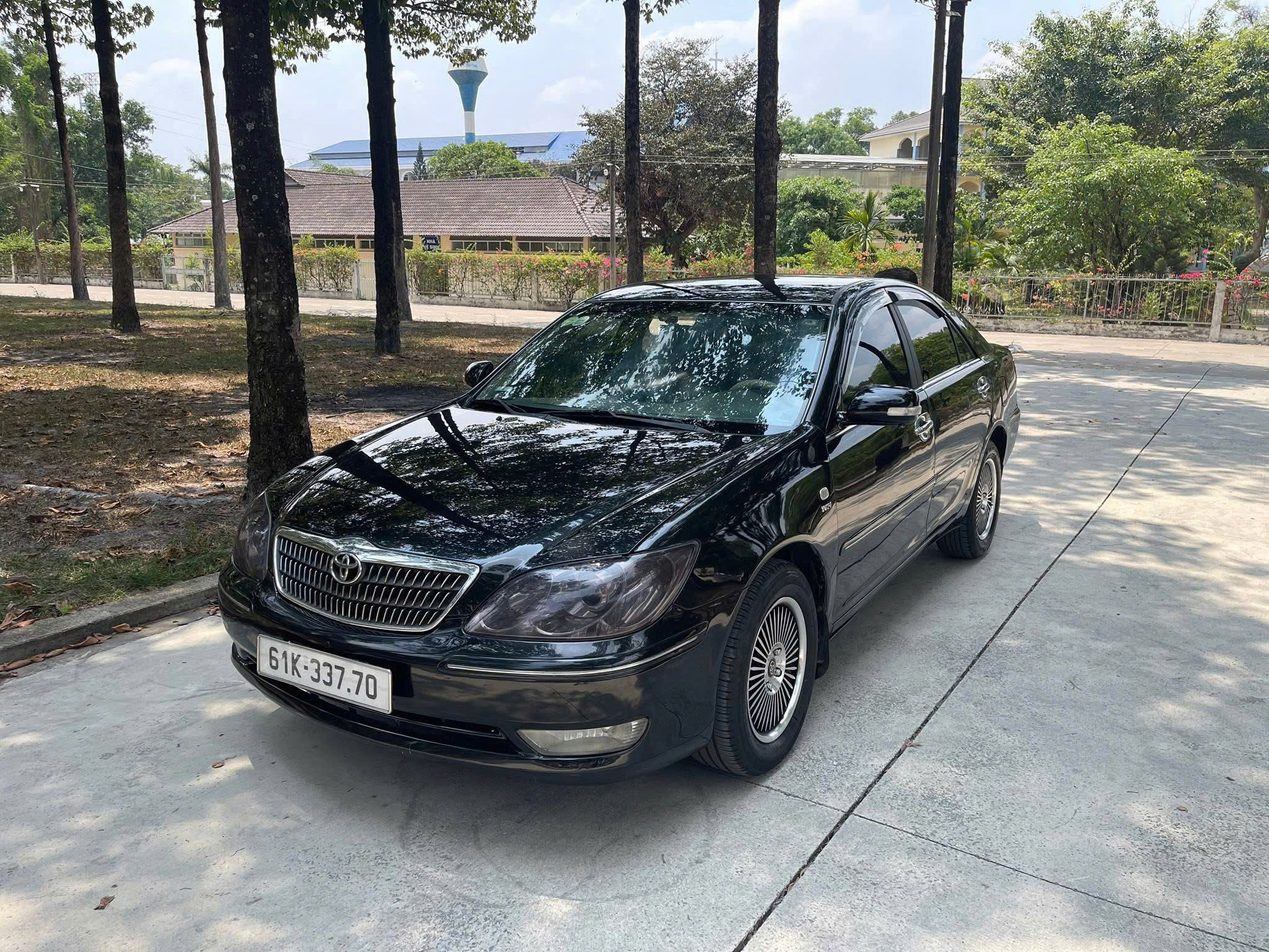Bien-so: (256, 635, 393, 710)
